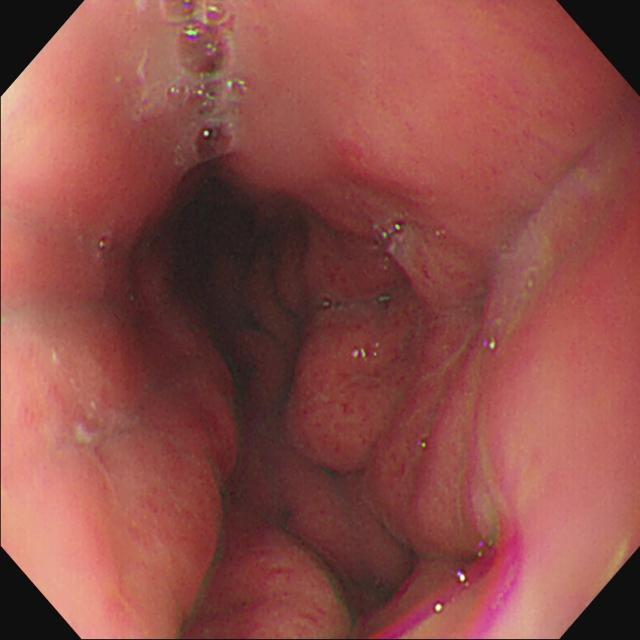A: (281, 302, 421, 471), (369, 390, 509, 559), (211, 521, 358, 640), (276, 215, 416, 309)
E: (179, 175, 268, 259)
T: (166, 2, 248, 162)
